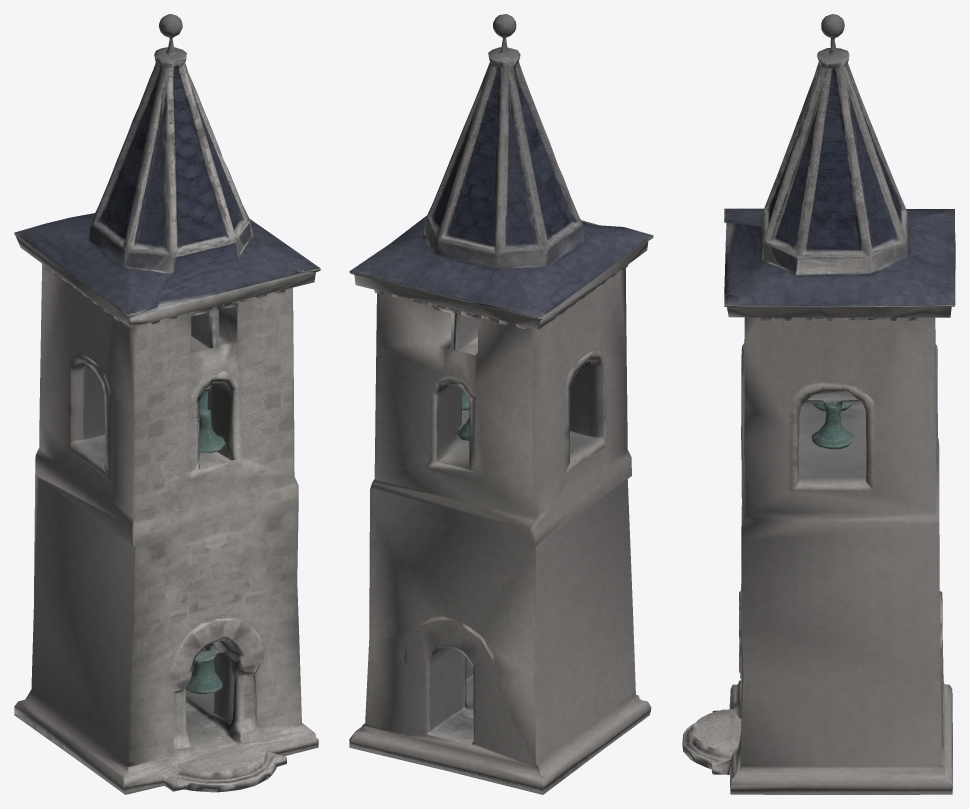
Rendered from prp_lm_bell_tower.glb.
3 renders of one model, left to right at view 1: azimuth 30°, elevation 25°; view 2: azimuth 150°, elevation 25°; view 3: azimuth 270°, elevation 25°, orthographic. The views are drawn at different scales.
Visible parts, largest first — view 1: prp_lm_bell_tower; view 2: prp_lm_bell_tower; view 3: prp_lm_bell_tower.
Boxes of the visible parts, <box> form: prp_lm_bell_tower: <box>14,14,320,794</box>; prp_lm_bell_tower: <box>349,14,653,794</box>; prp_lm_bell_tower: <box>682,14,955,794</box>.
Bounding box in the file's own units: 5.69 × 20 × 6.78.
1 material, 1 textured.
